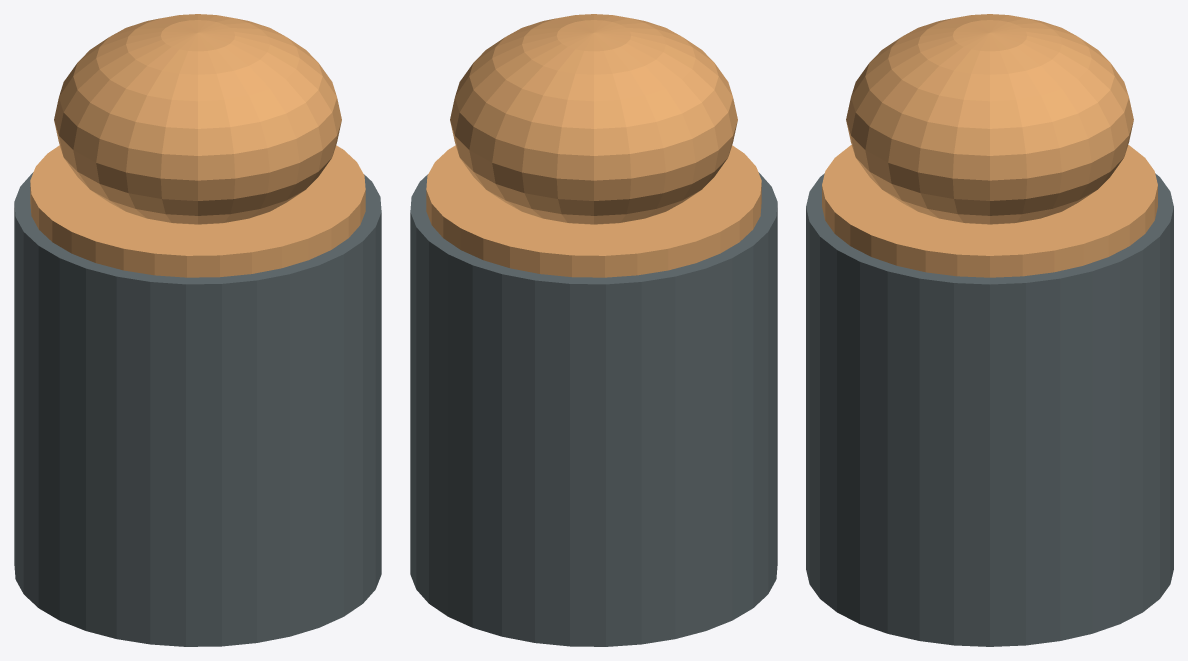
The model's file is exit_button.fbx.
3 renders of one model, left to right at view 1: azimuth 30°, elevation 25°; view 2: azimuth 150°, elevation 25°; view 3: azimuth 270°, elevation 25°, orthographic.
Visible parts, largest first — view 1: exit_button, exit_button_Button, exit_button_Collar; view 2: exit_button, exit_button_Button, exit_button_Collar; view 3: exit_button, exit_button_Button, exit_button_Collar.
Boxes of the visible parts, x1,y1,x2,y2 form: exit_button: (14, 172, 381, 646); exit_button_Button: (54, 14, 341, 224); exit_button_Collar: (30, 145, 365, 277); exit_button: (410, 172, 777, 646); exit_button_Button: (450, 14, 737, 224); exit_button_Collar: (426, 145, 761, 277); exit_button: (806, 173, 1173, 646); exit_button_Button: (846, 14, 1133, 224); exit_button_Collar: (822, 145, 1157, 277).
Bounding box in the file's own units: 0.46 × 0.74 × 0.46.
